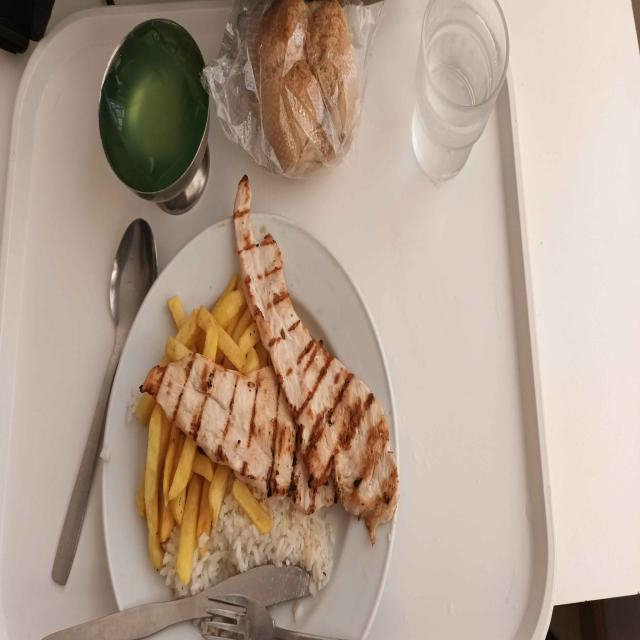bowl: (98, 18, 209, 214)
bread: (256, 0, 359, 174)
fork: (200, 594, 329, 639)
french fries: (136, 391, 232, 584), (161, 276, 261, 371), (231, 479, 272, 533)
gelatin: (99, 19, 208, 204)
grilled steak: (143, 178, 398, 542)
knife: (43, 566, 308, 639)
plate: (101, 189, 398, 639), (159, 621, 202, 639)
rice: (159, 498, 335, 597)
spoon: (52, 218, 158, 583)
water: (424, 3, 499, 109)
water cup: (412, 0, 509, 185)
